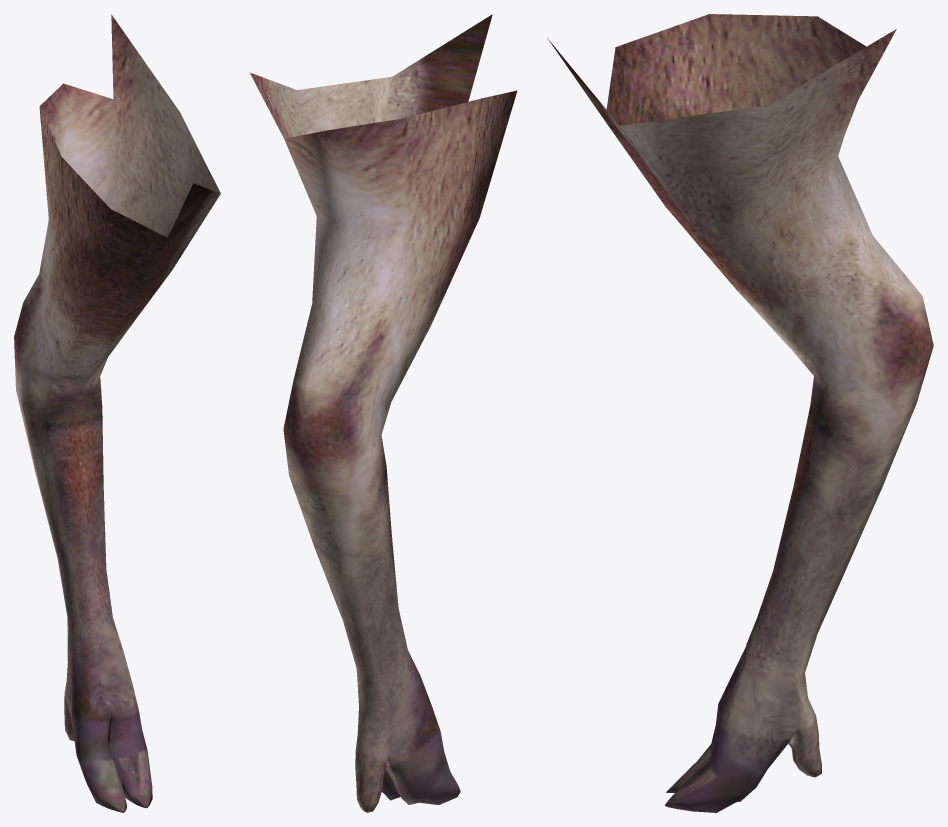
Rendered from Ciervo_bleftleg.obj.
3 views of the same model, side by side, from view 1: azimuth 30°, elevation 25°; view 2: azimuth 150°, elevation 25°; view 3: azimuth 270°, elevation 25° (orthographic). The views are drawn at different scales.
Visible parts, largest first — view 1: Body_body.003; view 2: Body_body.003; view 3: Body_body.003.
Part boxes in pixels (left/top/right/bottom): Body_body.003: left=14, top=14, right=220, bottom=812; Body_body.003: left=249, top=14, right=517, bottom=812; Body_body.003: left=547, top=14, right=933, bottom=812.
Bounding box in the file's own units: 0.5979 × 2.8 × 1.21.
